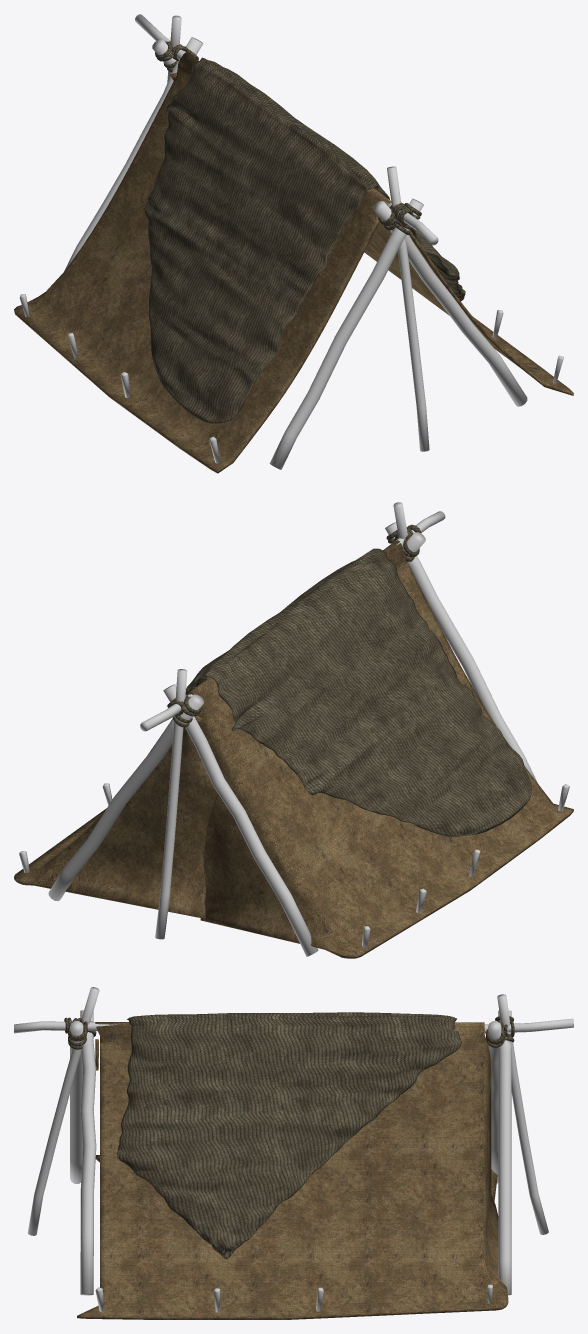
File: midpoly_viking_tent_001.obj
3 views of the same model, one above another, from view 1: azimuth 30°, elevation 25°; view 2: azimuth 150°, elevation 25°; view 3: azimuth 270°, elevation 25° (orthographic). The views are drawn at different scales.
Visible parts, largest first — view 1: Plane.001, Cylinder.024, Cylinder.006, Cylinder.007, Cylinder.001, Cylinder.004, BezierCircle.011, Cylinder.008; view 2: Cylinder.024, Plane.001, Cylinder.004, Cylinder.005, Cylinder.006, Cylinder.002, BezierCircle.011, Cylinder.008; view 3: Cylinder.024, Plane.001, Cylinder.007, Cylinder.005, Cylinder.001, Cylinder.002, Cylinder.006, Cylinder.008, Cylinder.004, BezierCircle.011.
Part boxes in pixels (box(x1,y1,x2,y2)): Plane.001: box(144, 57, 465, 423); Cylinder.024: box(14, 52, 573, 473); Cylinder.006: box(269, 198, 423, 469); Cylinder.007: box(373, 201, 527, 406); Cylinder.001: box(387, 166, 429, 451); Cylinder.004: box(64, 37, 203, 271); BezierCircle.011: box(155, 41, 421, 234); Cylinder.008: box(135, 14, 438, 245); Cylinder.024: box(14, 540, 573, 958); Plane.001: box(185, 548, 531, 836); Cylinder.004: box(163, 684, 318, 956); Cylinder.005: box(48, 694, 203, 901); Cylinder.006: box(385, 522, 537, 782); Cylinder.002: box(155, 669, 187, 939); BezierCircle.011: box(167, 524, 421, 727); Cylinder.008: box(140, 511, 445, 731); Cylinder.024: box(77, 1022, 508, 1319); Plane.001: box(117, 1012, 461, 1258); Cylinder.007: box(80, 1010, 96, 1295); Cylinder.005: box(498, 1010, 511, 1295); Cylinder.001: box(28, 987, 99, 1235); Cylinder.002: box(497, 994, 548, 1234); Cylinder.006: box(70, 1021, 83, 1183); Cylinder.008: box(14, 1018, 573, 1033); Cylinder.004: box(488, 1021, 501, 1183); BezierCircle.011: box(64, 1016, 514, 1049).
Bounding box in the file's own units: 6.16 × 4.42 × 8.92.
